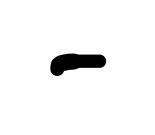minus: (50, 54, 106, 76)
